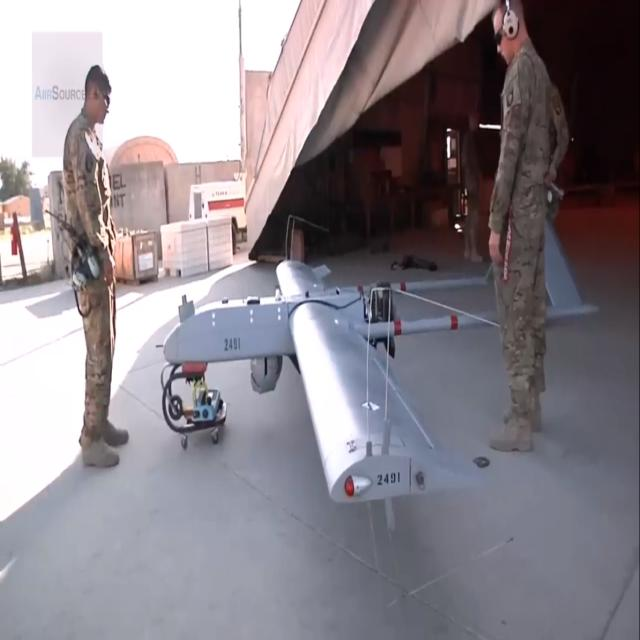drones: (146, 235, 601, 528)
